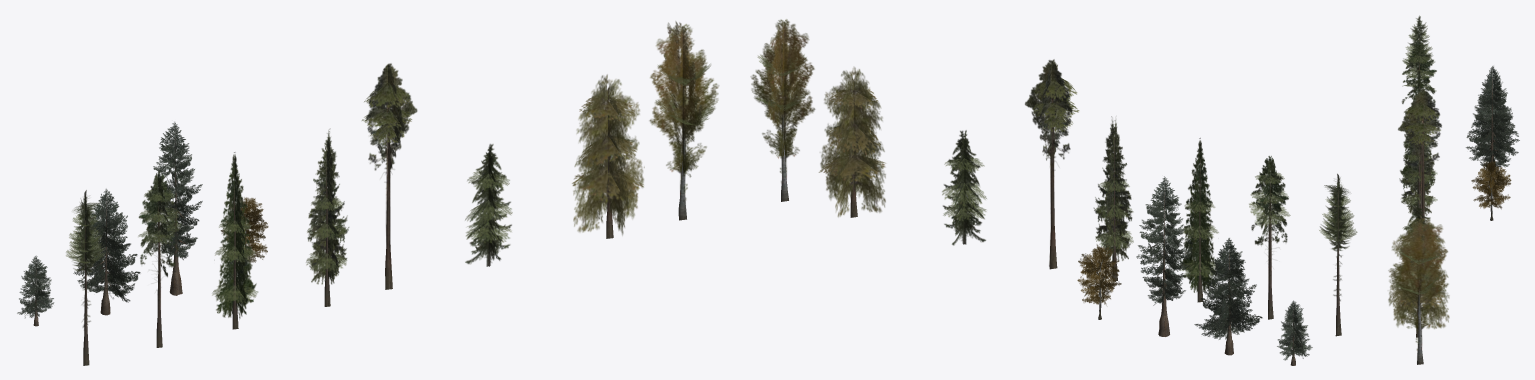
3 renders of one model, left to right at view 1: azimuth 30°, elevation 25°; view 2: azimuth 150°, elevation 25°; view 3: azimuth 270°, elevation 25°, orthographic. The views are drawn at different scales.
Parts seen in each view (by area): view 1: Background_Tree_Atlas.004, Background_Tree_Atlas.001, Background_Tree_Atlas, Background_Tree_Atlas.005, Background_Tree_Atlas.003, Tree_Branches_01.002, Tree_Branches_01, Background_Tree_Atlas.002, Background_Tree_Atlas.007, Background_Tree_Atlas.006, Tree_Branches_01.001, Tree_Branches_02; view 2: Background_Tree_Atlas.004, Background_Tree_Atlas.001, Tree_Branches_01, Background_Tree_Atlas.005, Tree_Branches_01.002, Background_Tree_Atlas, Background_Tree_Atlas.003, Background_Tree_Atlas.002, Background_Tree_Atlas.007, Background_Tree_Atlas.006, Tree_Branches_02, Tree_Branches_01.001 (+1 smaller); view 3: Background_Tree_Atlas.001, Background_Tree_Atlas.004, Tree_Branches_01, Background_Tree_Atlas.005, Background_Tree_Atlas.003, Tree_Branches_01.002, Tree_Branches_02, Background_Tree_Atlas.007, Background_Tree_Atlas.006, Background_Tree_Atlas, Background_Tree_Atlas.002, Tree_Trunk_01.001.
Part boxes in pixels (x1,y1,x2,y2): Background_Tree_Atlas.004: (572,74,644,238); Background_Tree_Atlas.001: (649,21,718,220); Background_Tree_Atlas: (212,152,258,329); Background_Tree_Atlas.005: (362,63,417,289); Background_Tree_Atlas.003: (306,128,349,306); Tree_Branches_01.002: (73,188,140,302); Tree_Branches_01: (151,122,202,259); Background_Tree_Atlas.002: (465,144,512,266); Background_Tree_Atlas.007: (138,171,181,347); Background_Tree_Atlas.006: (66,190,105,365); Tree_Branches_01.001: (17,255,53,318); Tree_Branches_02: (220,197,268,263); Background_Tree_Atlas.004: (819,67,885,217); Background_Tree_Atlas.001: (750,19,815,201); Tree_Branches_01: (1136,176,1192,305); Background_Tree_Atlas.005: (1025,59,1079,269); Tree_Branches_01.002: (1194,238,1262,340); Background_Tree_Atlas: (1179,138,1218,302); Background_Tree_Atlas.003: (1093,116,1133,281); Background_Tree_Atlas.002: (942,130,986,245); Background_Tree_Atlas.007: (1249,156,1290,319); Background_Tree_Atlas.006: (1319,173,1357,336); Tree_Branches_02: (1077,244,1121,305); Tree_Branches_01.001: (1277,300,1312,360); Background_Tree_Atlas.001: (1388,218,1448,364); Background_Tree_Atlas.004: (1388,215,1449,337); Tree_Branches_01: (1473,66,1510,168); Background_Tree_Atlas.005: (1398,89,1441,218); Background_Tree_Atlas.003: (1399,118,1437,215); Tree_Branches_01.002: (1466,88,1519,162); Tree_Branches_02: (1471,161,1511,209); Background_Tree_Atlas.007: (1402,40,1436,114); Background_Tree_Atlas.006: (1402,15,1434,80); Background_Tree_Atlas: (1400,69,1437,192); Background_Tree_Atlas.002: (1403,201,1435,266); Tree_Trunk_01.001: (1485,79,1499,196).
Size of the model in its own units: 101 by 33.39 by 23.85.
5 materials, 5 textured.
